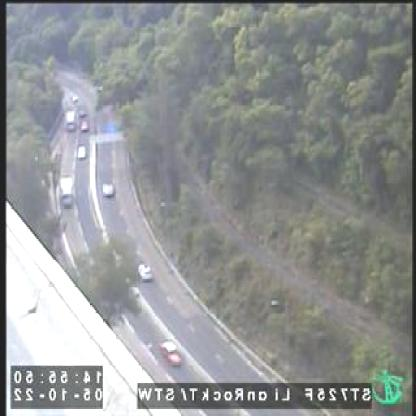Car: (162, 340, 184, 366), (139, 263, 152, 281), (104, 180, 114, 196), (78, 142, 87, 158), (82, 121, 90, 132)
Truck: (61, 177, 74, 206), (68, 109, 76, 130)
